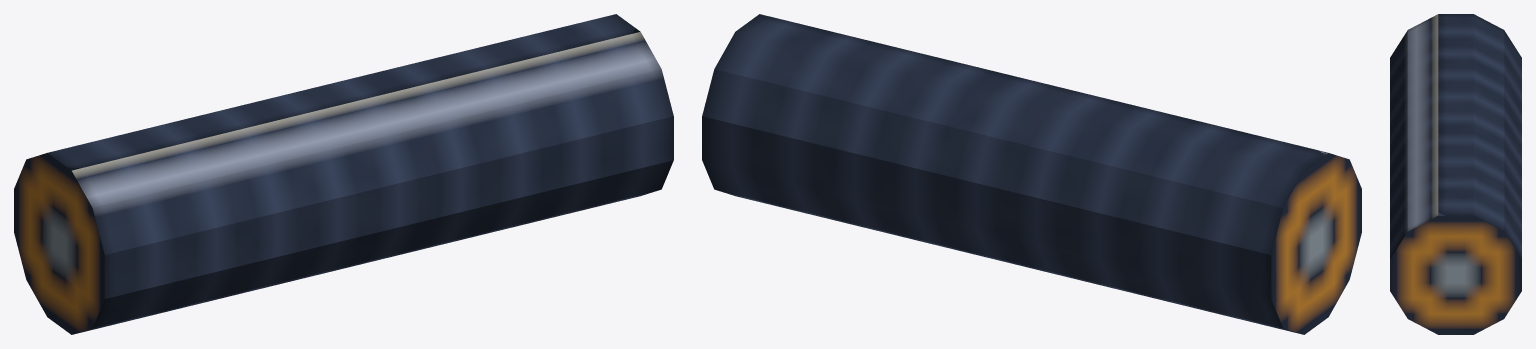
The model's file is era2_drum_bank_drum_3.obj.
The picture shows the model from 3 angles, left to right: view 1: azimuth 30°, elevation 25°; view 2: azimuth 150°, elevation 25°; view 3: azimuth 270°, elevation 25°; orthographic projection. The views are drawn at different scales.
Parts seen in each view (by area): view 1: era2_drum_bank_drum_3; view 2: era2_drum_bank_drum_3; view 3: era2_drum_bank_drum_3.
Part boxes in pixels (x1,y1,x2,y2): era2_drum_bank_drum_3: (14, 14, 673, 334); era2_drum_bank_drum_3: (702, 14, 1361, 334); era2_drum_bank_drum_3: (1390, 14, 1521, 334).
Size of the model in its own units: 1.75 by 0.483 by 0.483.
